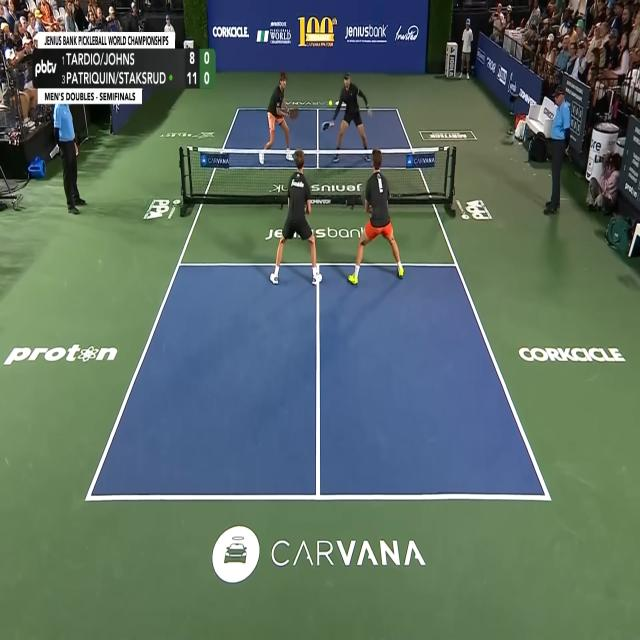ball: (328, 99, 333, 107)
